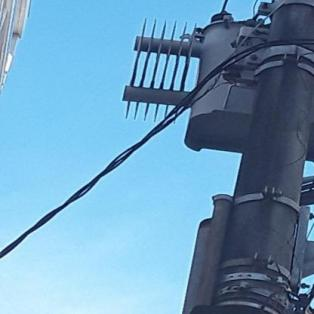Poste: (201, 0, 314, 314)
